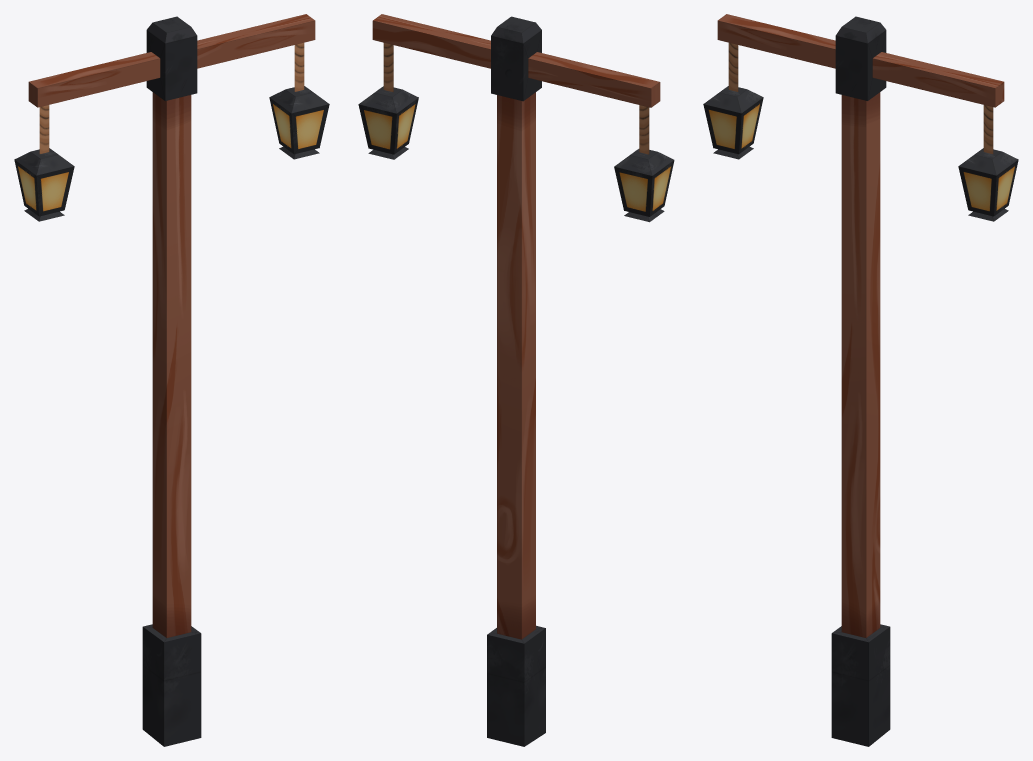
Rendered from streetlamp.fbx.
3 renders of one model, left to right at view 1: azimuth 30°, elevation 25°; view 2: azimuth 150°, elevation 25°; view 3: azimuth 330°, elevation 25°, orthographic.
Visible parts, largest first — view 1: street lamp; view 2: street lamp; view 3: street lamp.
Part boxes in pixels (x1,y1,x2,y2): street lamp: (14, 14, 329, 746); street lamp: (358, 14, 674, 746); street lamp: (703, 14, 1018, 746).
Size of the model in its own units: 239 by 552 by 31.13.
